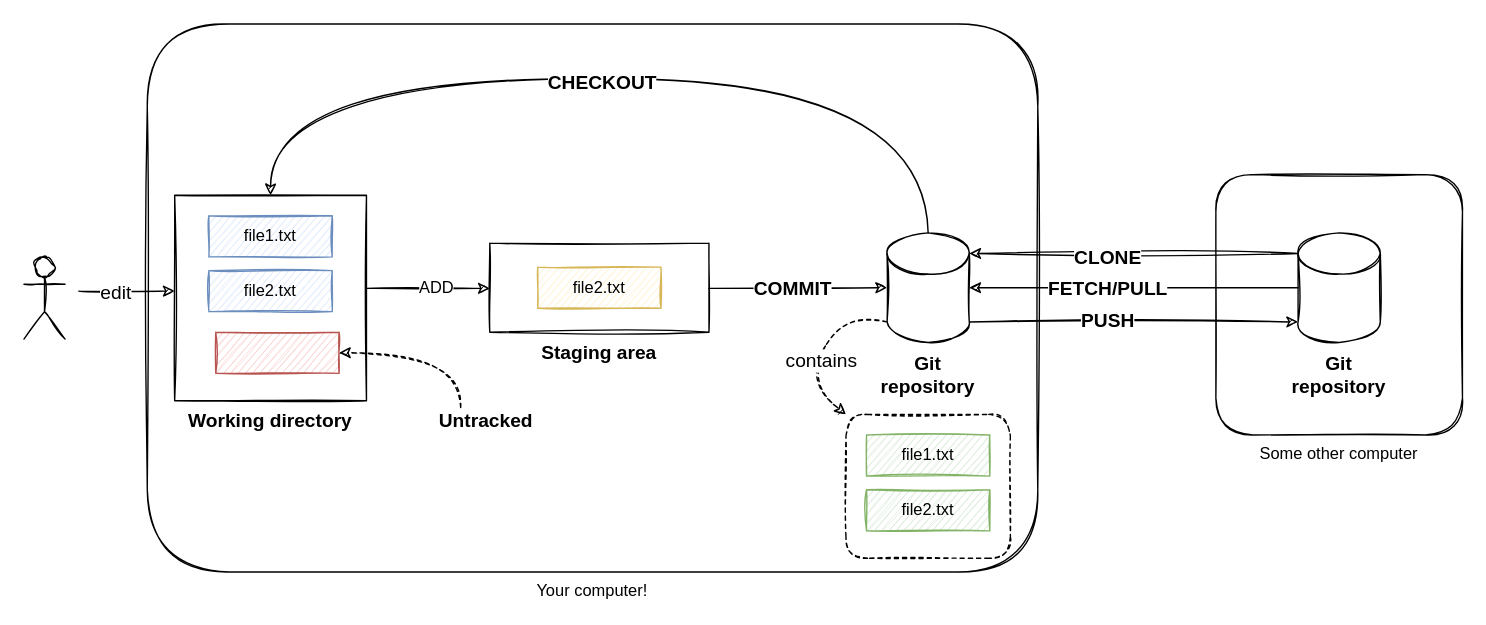
Some shapes in this 1486 by 625 pixel diagram are drawn without their labels. The centre of each missing label's shape, as x and y in pixels:
"file3.txt" goes at point 276,352.
"User" goes at point 44,297.
